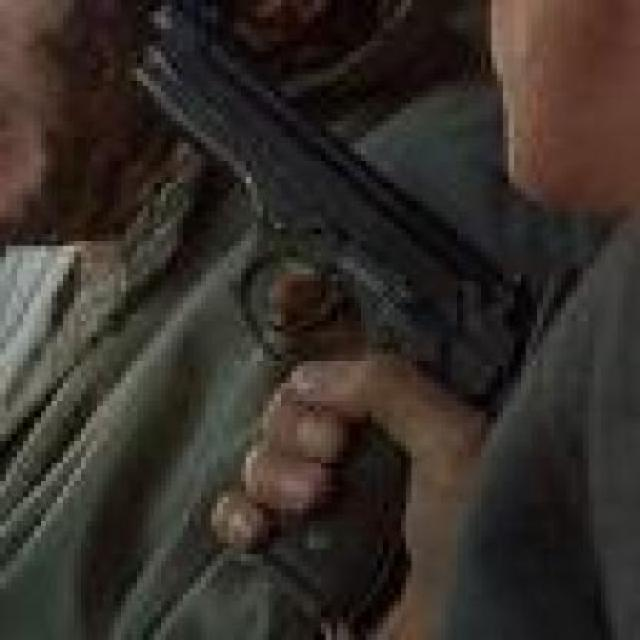rifle: (94, 0, 548, 363)
